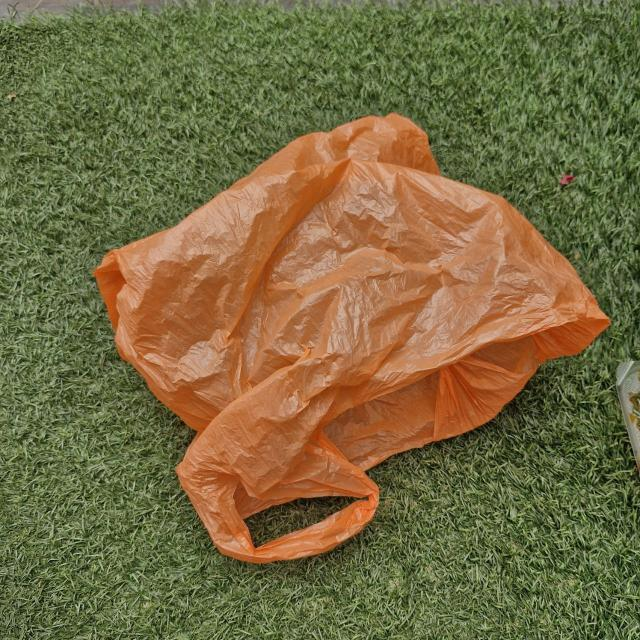plastic: (93, 111, 609, 569)
